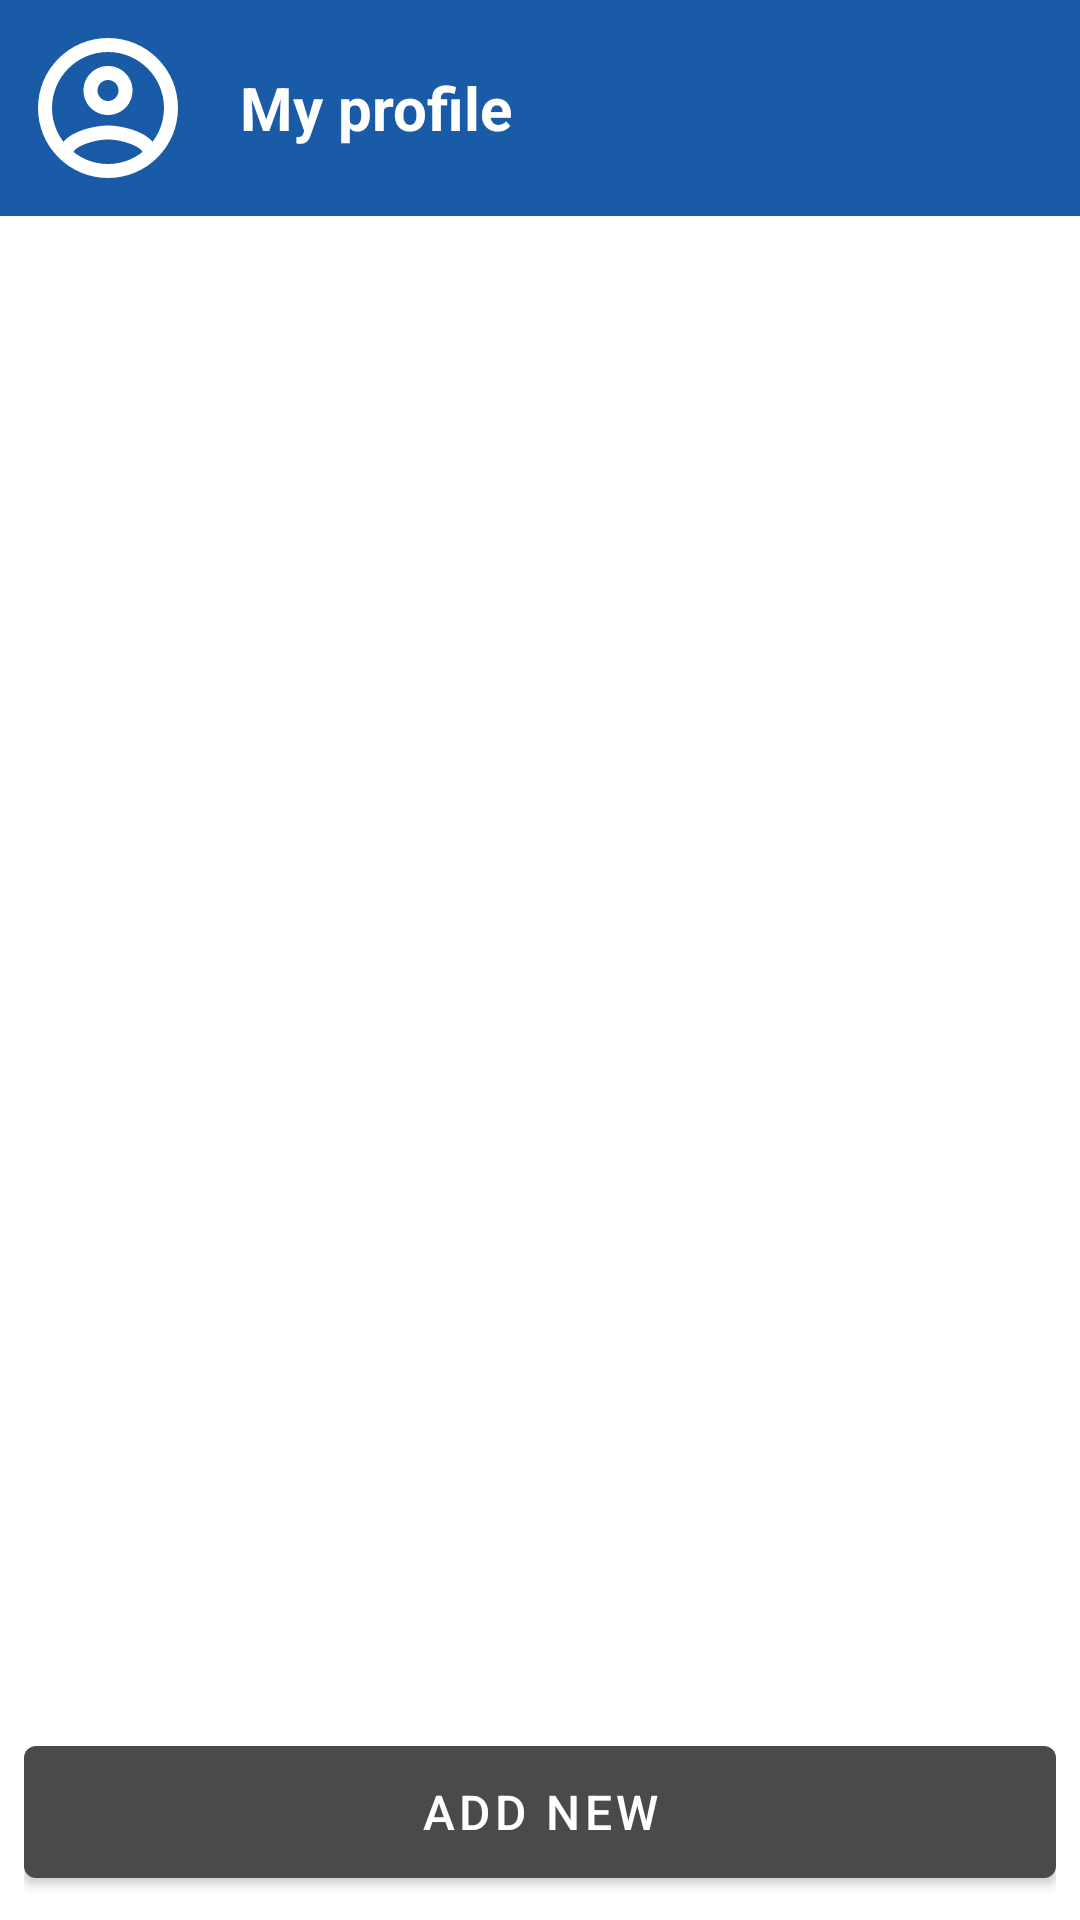

Icons on this 1080px×1920px Android screen, each with the point to tap as [x,y]:
account circle: [108,108]
